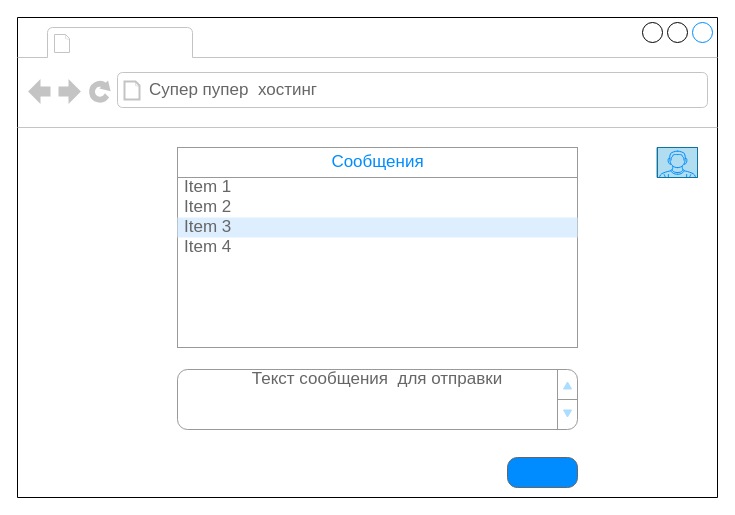
This 735x515 diagram has some shape labels left out. The centre of each missing label's shape, as x and y in pixels:
"Page 1" goes at point 132,42.
"Send" goes at point 542,472.
